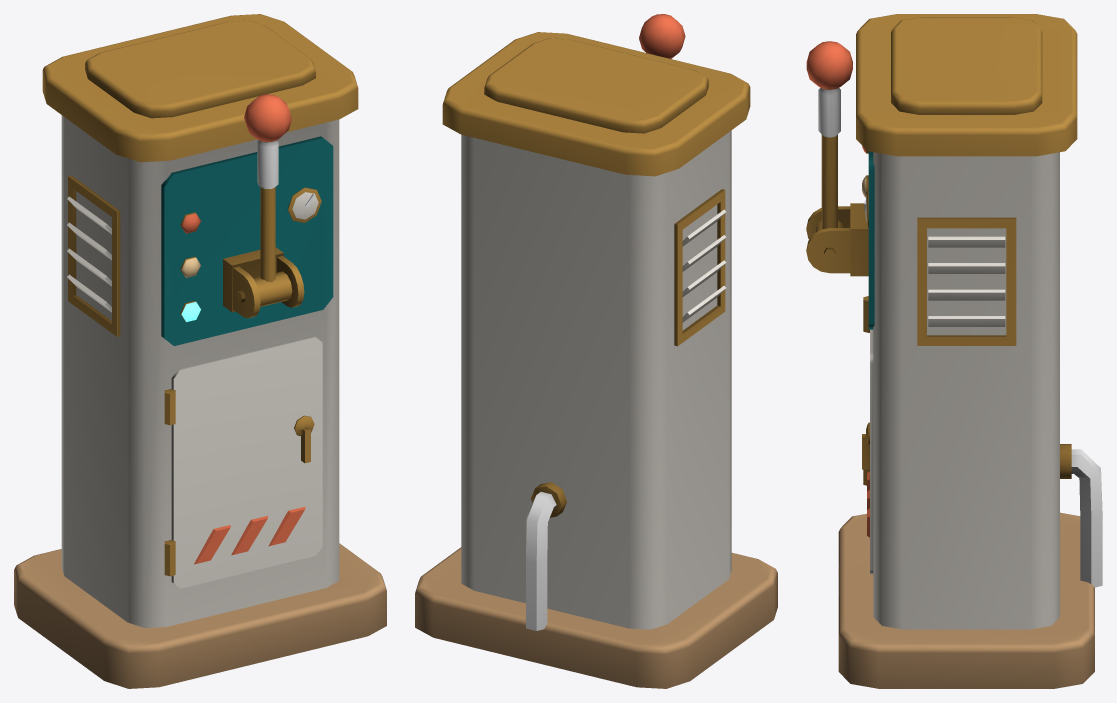
The model's file is switch_box.fbx.
3 renders of one model, left to right at view 1: azimuth 30°, elevation 25°; view 2: azimuth 150°, elevation 25°; view 3: azimuth 270°, elevation 25°, orthographic. The views are drawn at different scales.
Visible parts, largest first — view 1: switch_box, Lever; view 2: switch_box, Lever; view 3: switch_box, Lever.
Boxes of the visible parts, left/top/right/bottom form: switch_box: left=14, top=14, right=386, bottom=688; Lever: left=244, top=94, right=292, bottom=306; switch_box: left=415, top=32, right=777, bottom=688; Lever: left=639, top=14, right=685, bottom=59; switch_box: left=806, top=14, right=1102, bottom=688; Lever: left=806, top=41, right=852, bottom=232.
Bounding box in the file's own units: 0.56 × 1.09 × 0.5081.
